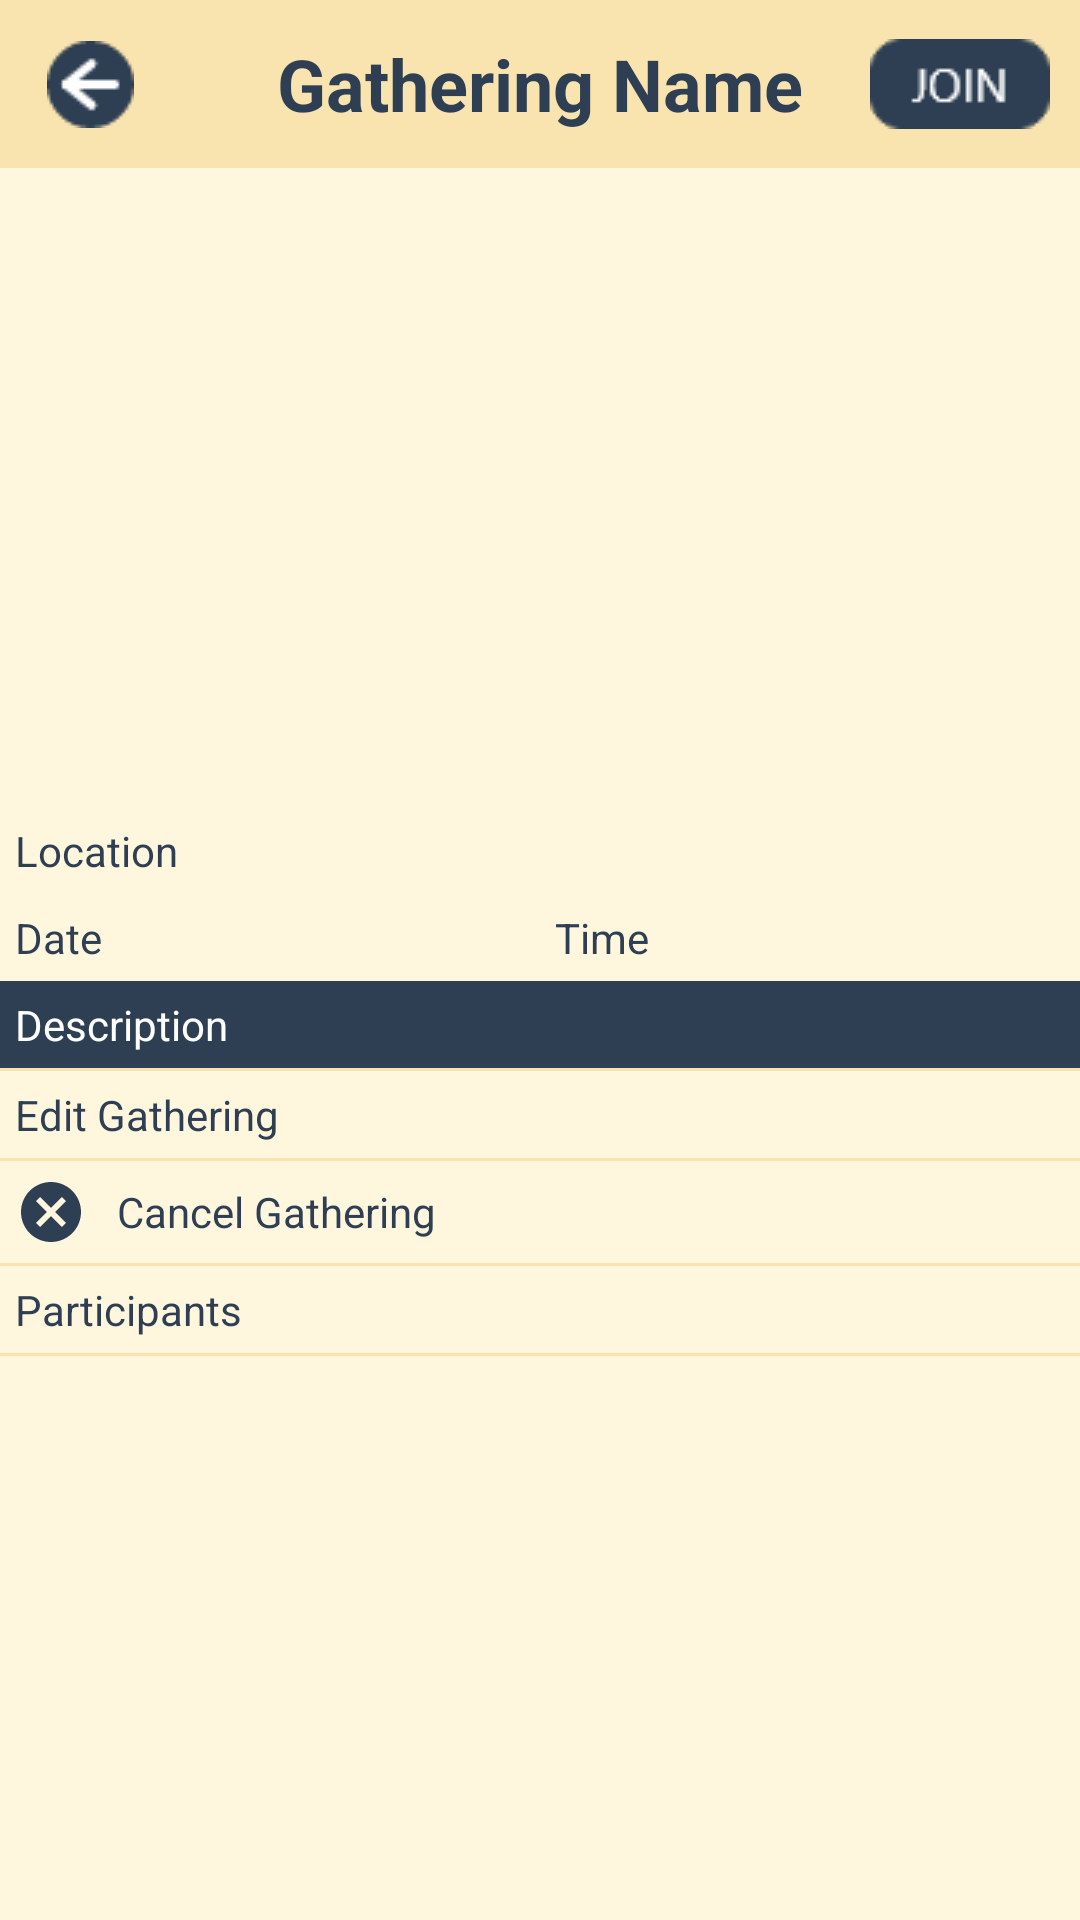

Screen size 1080px x 1920px. Icon name, then its box in pixels as region(x1, y1, x2, y2):
back: region(47, 41, 134, 128)
